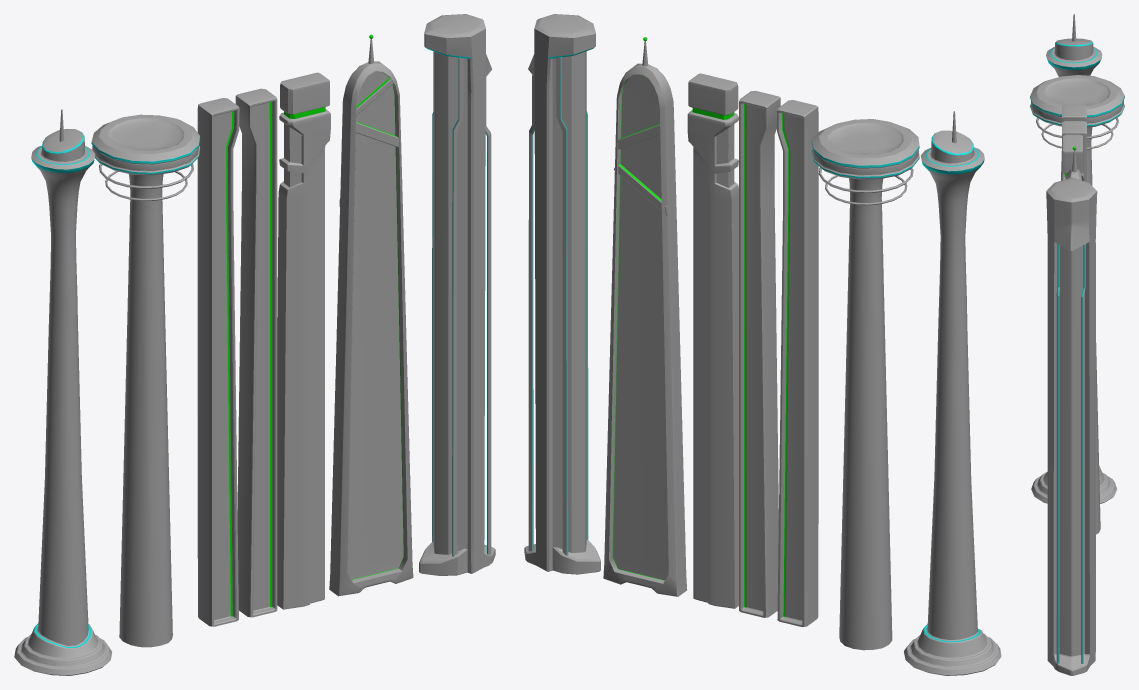
Rendered from MDL_ Detailed_Buildings 02.fbx.
3 renders of one model, left to right at view 1: azimuth 30°, elevation 25°; view 2: azimuth 150°, elevation 25°; view 3: azimuth 270°, elevation 25°, orthographic. The views are drawn at different scales.
Visible parts, largest first — view 1: Building_03, Building_07, Building_05, Building_02, Building_06, Building_12, Building_11; view 2: Building_03, Building_07, Building_05, Building_02, Building_06, Building_12, Building_11; view 3: Building_07, Building_05, Building_06, Building_02, Building_11, Building_12, Building_03.
Boxes of the visible parts, bbox=[...] form: Building_03: bbox=[329, 34, 413, 596]; Building_07: bbox=[419, 14, 495, 575]; Building_05: bbox=[91, 114, 200, 647]; Building_02: bbox=[277, 72, 330, 609]; Building_06: bbox=[14, 109, 111, 675]; Building_12: bbox=[197, 98, 239, 626]; Building_11: bbox=[235, 88, 277, 617]; Building_03: bbox=[603, 37, 686, 596]; Building_07: bbox=[524, 14, 600, 574]; Building_05: bbox=[811, 119, 919, 650]; Building_02: bbox=[687, 73, 738, 608]; Building_06: bbox=[904, 111, 1001, 675]; Building_12: bbox=[777, 100, 818, 626]; Building_11: bbox=[739, 90, 780, 617]; Building_07: bbox=[1046, 177, 1097, 675]; Building_05: bbox=[1030, 75, 1124, 534]; Building_06: bbox=[1031, 14, 1116, 503]; Building_02: bbox=[1062, 134, 1083, 179]; Building_11: bbox=[1062, 121, 1086, 181]; Building_12: bbox=[1062, 105, 1086, 121]; Building_03: bbox=[1065, 146, 1083, 180].
Size of the model in its own units: 432 by 480 by 86.14.
